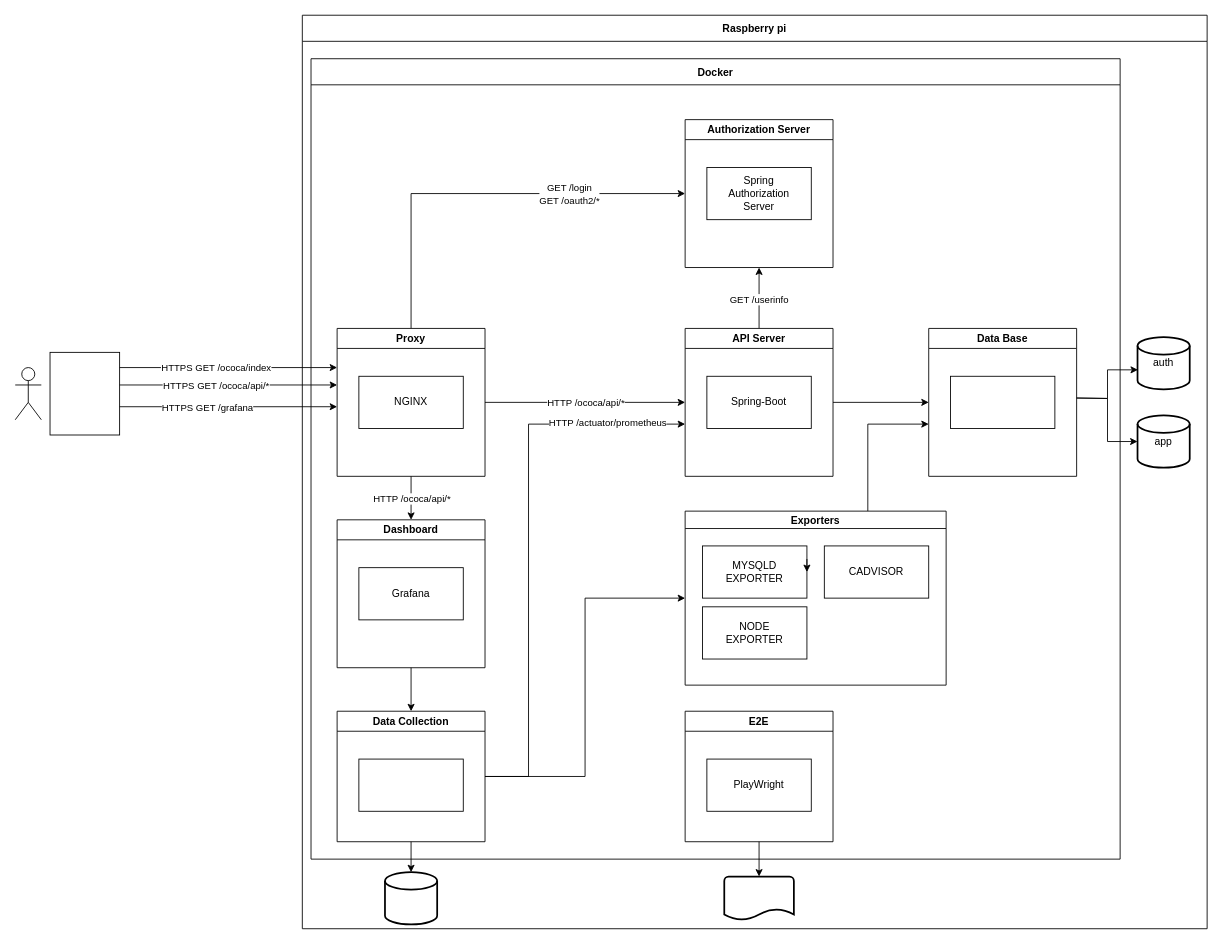
Image size: 1222x944. Some labels were removed from this diagram. The shapes that lost their labels are listed below. From the top down, each one's centre as x and y in pixels, then its label:
At (x=84, y=393): "React".
At (x=1002, y=401): "MySQL".
At (x=410, y=784): "Prometheus".
At (x=411, y=898): "metrics".
At (x=758, y=897): "report.html".
